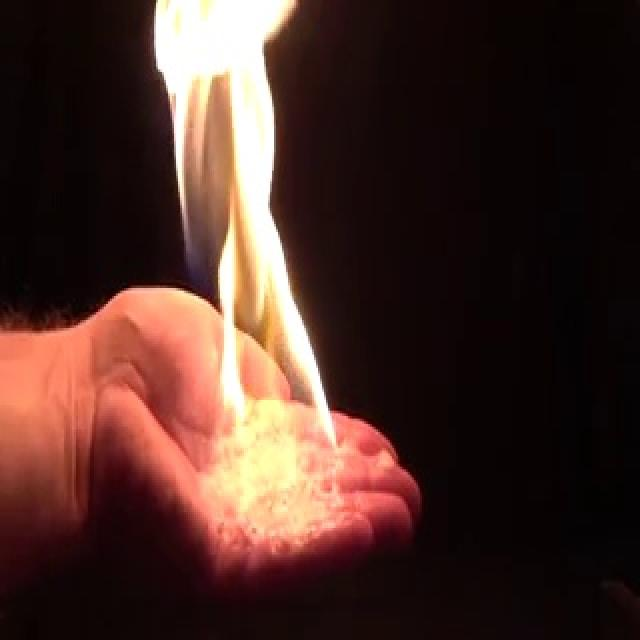fire: (145, 0, 349, 495)
